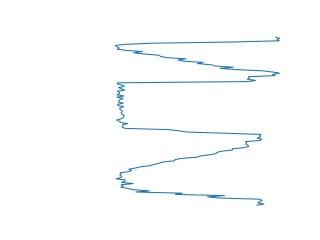distributaryChannelFill: (112, 73, 266, 141)
mouthBar: (111, 31, 282, 79)
underwaterDistributaryChannel: (114, 138, 268, 209)
